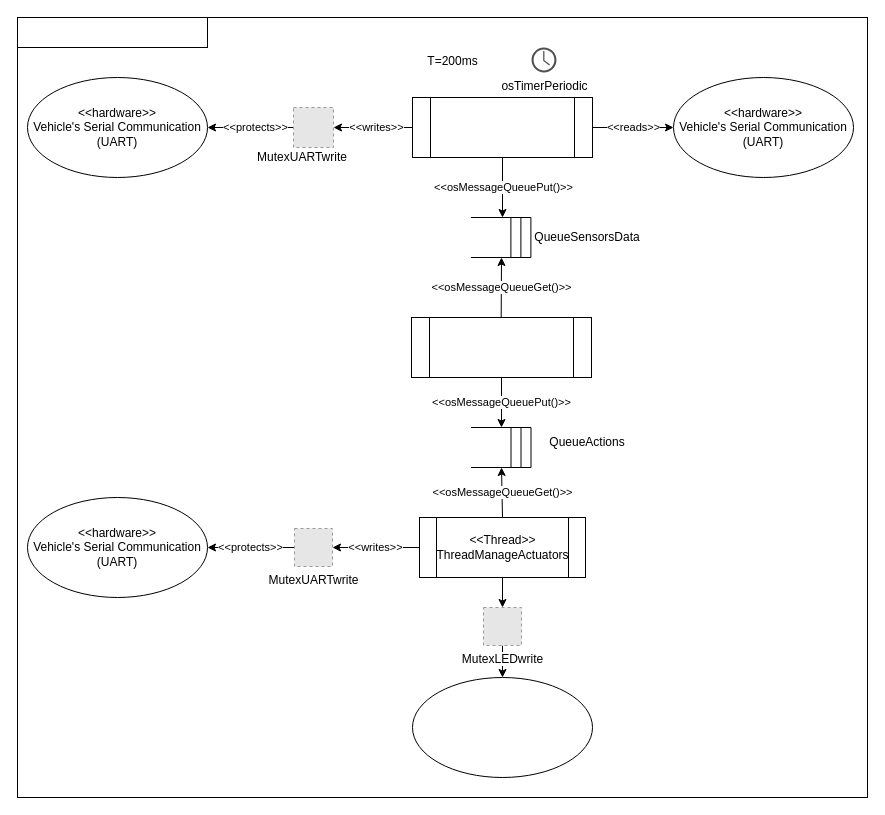
Image size: 885x815. Some labels were removed from this diagram. Grey dashed boxes stand in for pictures. The centre of each missing label's shape, as x and y in pixels:
<<CallbackFunction>> callbackCheckSensors: point 502,127
<<peripheral>> Vehicle's LEDs: point 502,727
<<Thread>> ThreadProcessData: point 501,347
Static Architecture - Auto guided car: point 112,32
